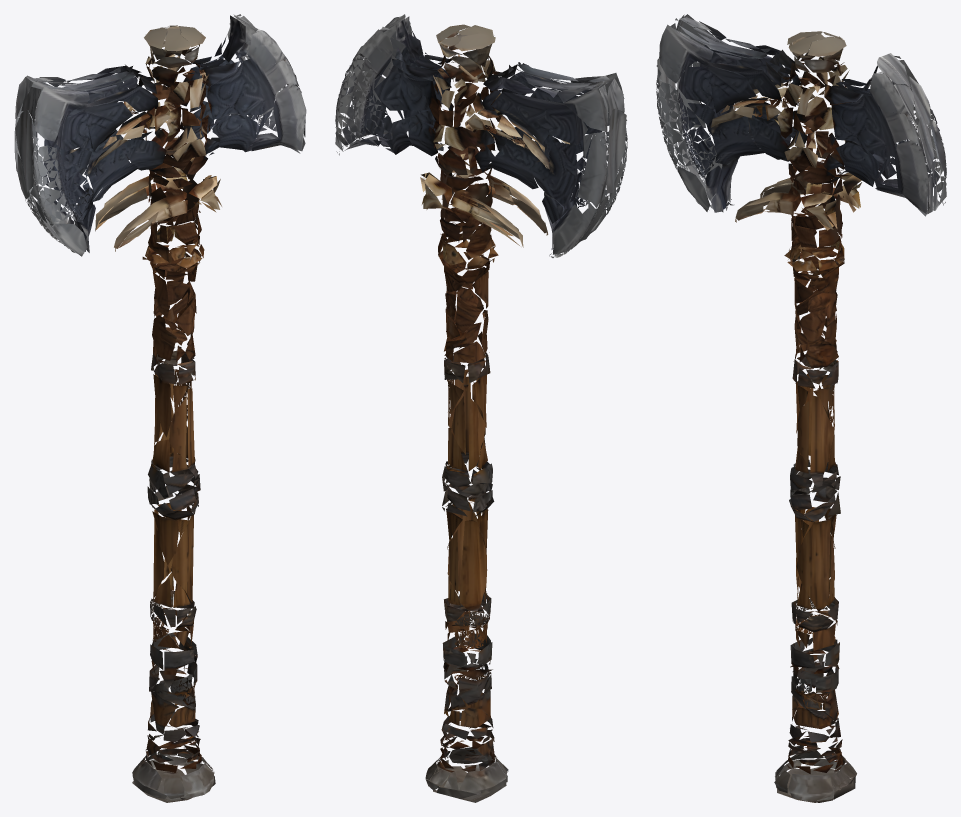
The model's file is axe2.glb.
3 renders of one model, left to right at view 1: azimuth 30°, elevation 25°; view 2: azimuth 150°, elevation 25°; view 3: azimuth 330°, elevation 25°, orthographic.
Parts seen in each view (by area): view 1: node_0; view 2: node_0; view 3: node_0.
Part boxes in pixels (x1,y1,x2,y2): node_0: [14, 14, 306, 802]; node_0: [335, 14, 627, 802]; node_0: [656, 14, 946, 802].
Bounding box in the file's own units: 0.506 × 1.35 × 0.1378.
1 material, 1 textured.
